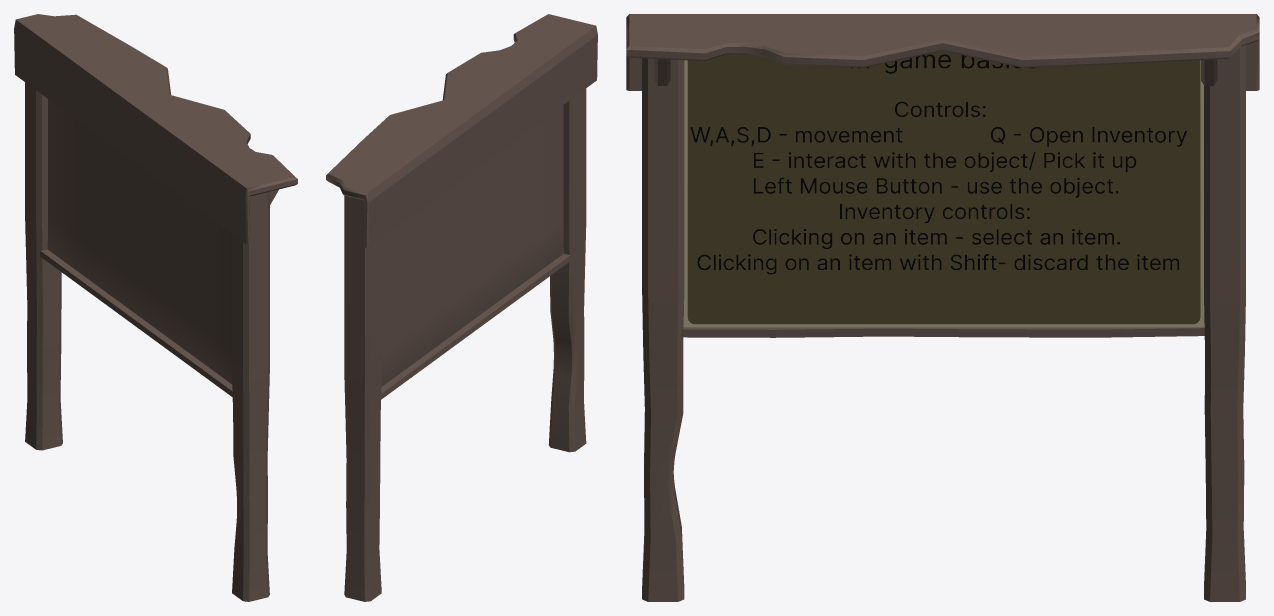
Rendered from Tutorial.fbx.
3 views of the same model, side by side, from view 1: azimuth 30°, elevation 25°; view 2: azimuth 150°, elevation 25°; view 3: azimuth 270°, elevation 25° (orthographic). The views are drawn at different scales.
Visible parts, largest first — view 1: Tutorial; view 2: Tutorial; view 3: Tutorial.
Part boxes in pixels (x1=…): Tutorial: x1=14, y1=14, x2=297, y2=601; Tutorial: x1=326, y1=14, x2=597, y2=601; Tutorial: x1=626, y1=14, x2=1259, y2=601.
Bounding box in the file's own units: 17.09 × 101 × 102.
